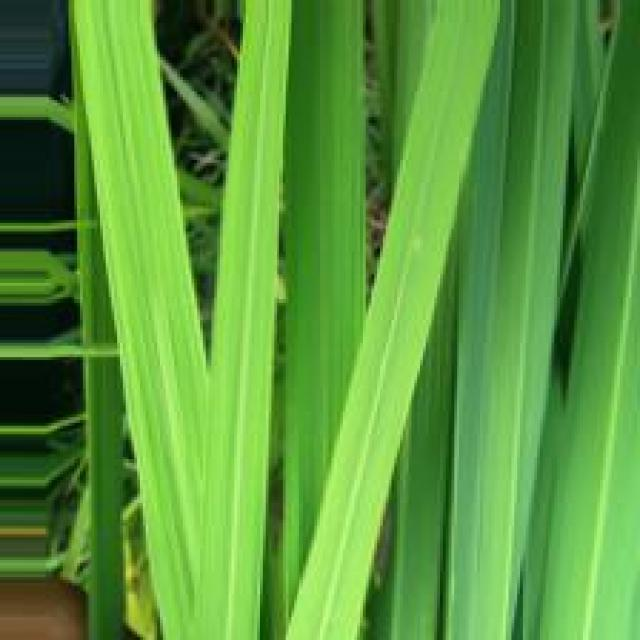HealthyLeaf: (75, 0, 205, 581), (341, 4, 495, 439), (539, 11, 640, 638), (284, 1, 363, 558), (501, 2, 570, 267)
